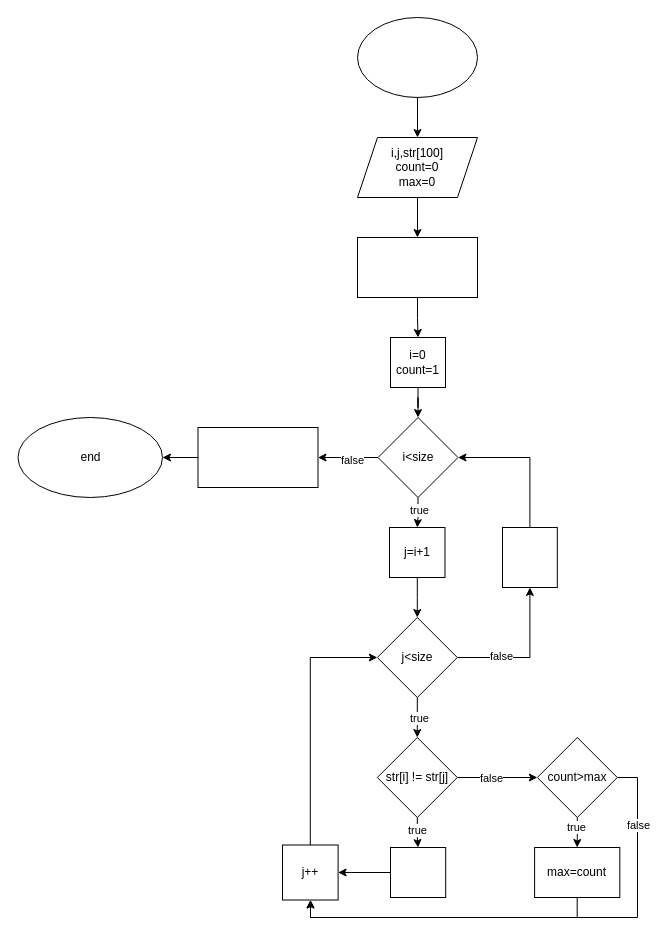
Some shapes in this 667 by 943 pixel diagram are drawn without their labels. Here are the shapes that lost their labels. From the top down, the box of each, then its label:
(356, 16, 478, 98): start
(356, 236, 478, 298): nhap chuoi ki tu(str[]) int size = strlen(str)
(197, 426, 318, 488): dua ra max
(502, 526, 557, 588): i++
(390, 846, 446, 898): count++
